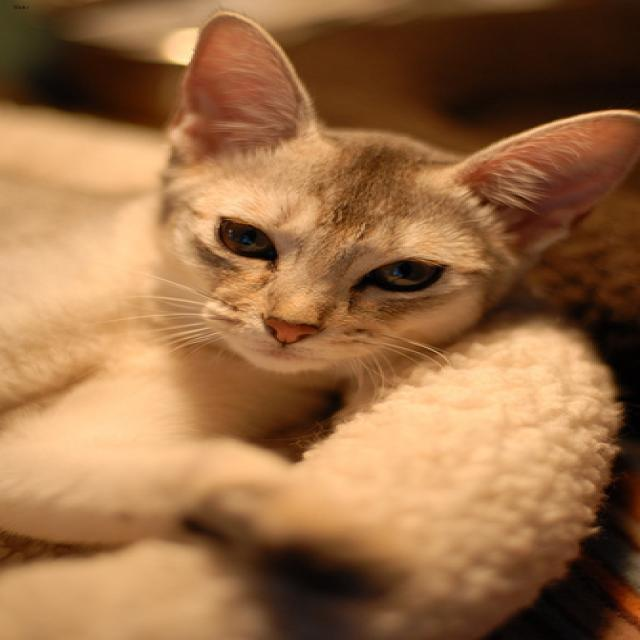Abyssinian: (147, 9, 640, 379)
